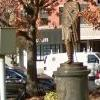Statue: (53, 0, 91, 78)
